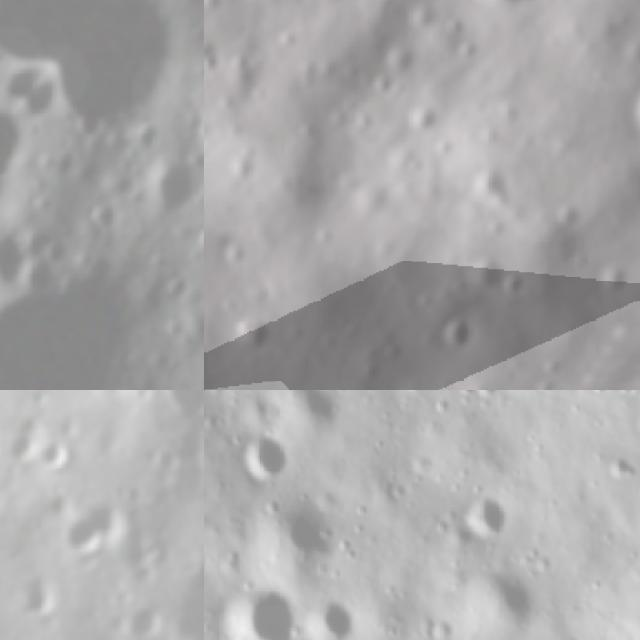crater: (30, 0, 204, 158), (126, 134, 204, 235), (461, 561, 540, 640), (259, 496, 340, 572), (454, 147, 535, 222), (437, 0, 588, 40), (216, 576, 305, 640), (53, 492, 119, 572), (0, 204, 54, 301), (0, 111, 48, 202), (259, 390, 351, 436), (424, 302, 488, 364), (160, 550, 204, 640), (16, 71, 74, 131), (236, 431, 298, 487), (396, 87, 455, 144), (455, 492, 515, 543), (228, 308, 282, 362), (542, 190, 596, 242), (304, 592, 360, 640), (494, 258, 543, 308), (590, 253, 640, 302), (616, 50, 640, 149), (213, 226, 261, 274), (16, 569, 59, 620), (349, 345, 393, 389), (204, 30, 237, 84), (156, 390, 204, 427), (602, 446, 640, 492), (1, 426, 42, 468), (120, 597, 160, 640), (35, 432, 80, 470), (204, 333, 224, 390), (204, 0, 236, 22), (473, 390, 506, 399)
